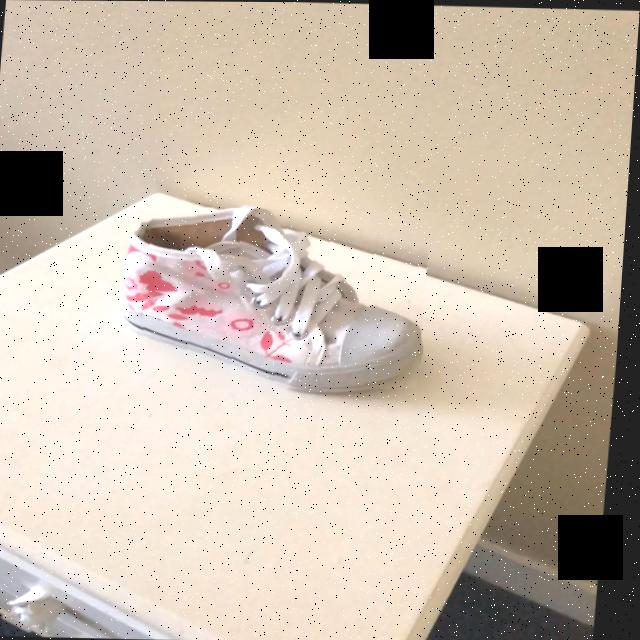shoe: (127, 207, 425, 389)
